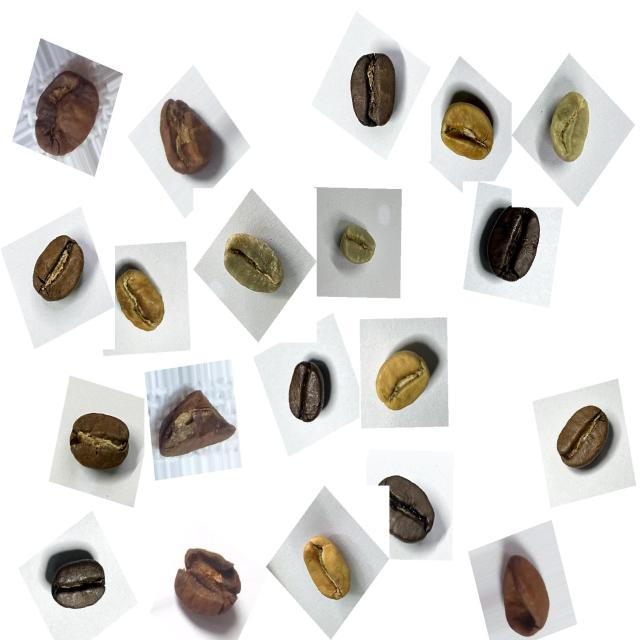bad: (26, 56, 111, 171), (166, 534, 252, 636), (156, 377, 242, 470), (488, 538, 562, 638), (148, 90, 224, 186)
dark: (472, 198, 552, 296), (376, 463, 446, 559), (41, 541, 115, 626), (277, 352, 342, 437)
green: (214, 224, 294, 311), (539, 84, 602, 178), (330, 214, 386, 279)
light: (366, 330, 445, 426), (436, 80, 508, 176), (107, 257, 176, 345), (296, 527, 363, 612)
medium: (61, 399, 140, 485), (337, 46, 409, 140), (21, 224, 93, 316), (548, 394, 621, 482)
